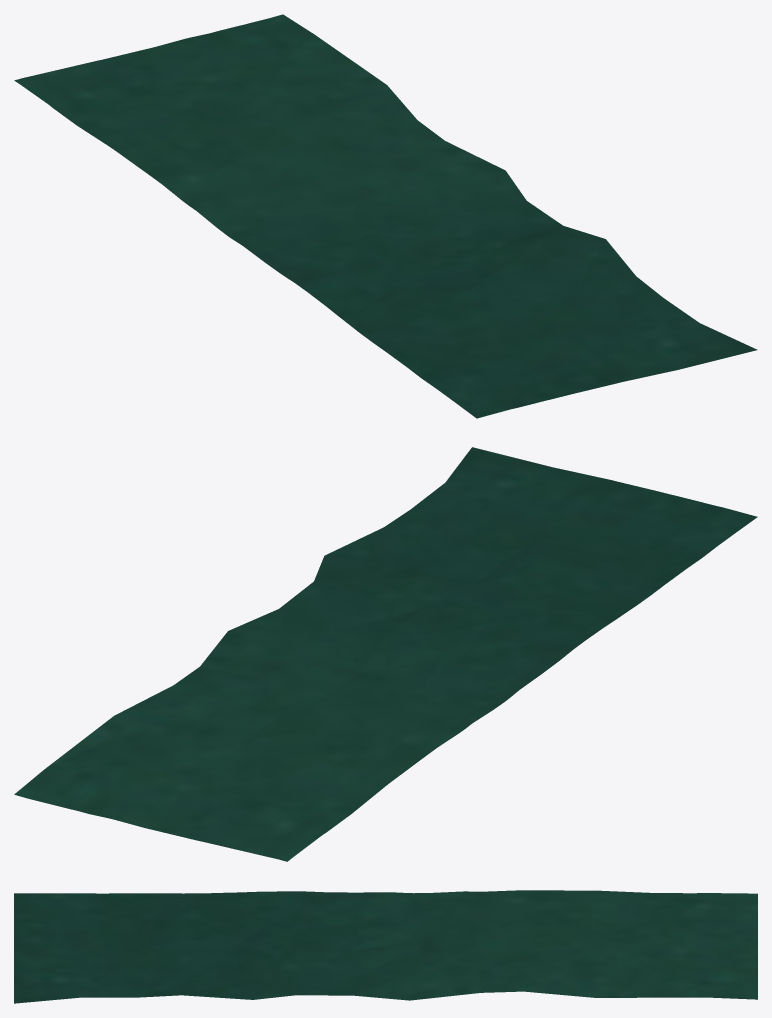
The picture shows the model from 3 angles, top to bottom: view 1: azimuth 30°, elevation 25°; view 2: azimuth 150°, elevation 25°; view 3: azimuth 270°, elevation 25°; orthographic projection. The views are drawn at different scales.
Bounding box in the file's own units: 18.32 × 0.386 × 52.22.
Materials: 1 (1 with a texture image).
